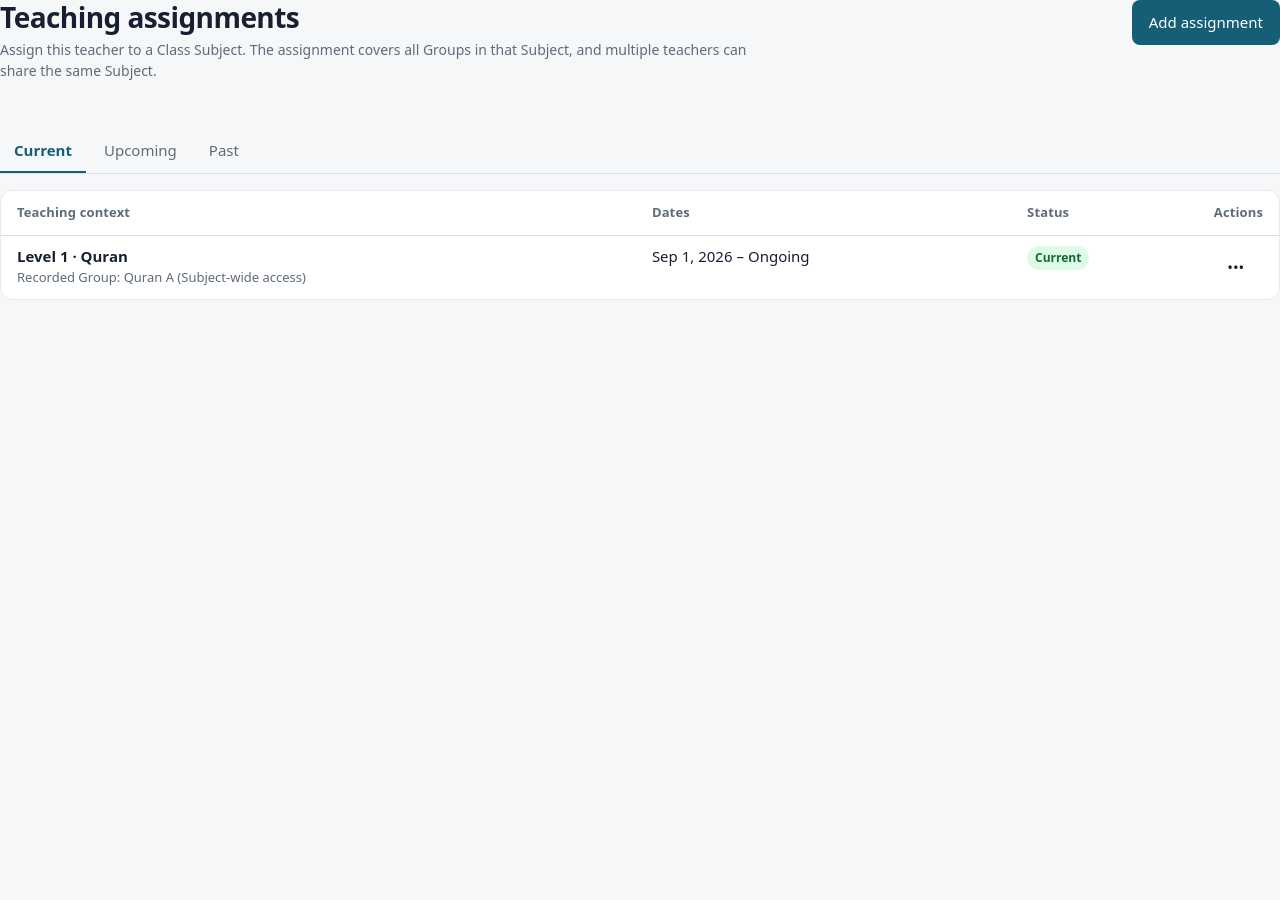
Scenario: teaching assignment workspace reference CRUD flow › keeps Delete visible and explains the blocker after protected history prevents deletion
The width and height of the screenshot is (1280, 900).
Click the button "•••" at [1236, 267], box [1214, 245, 1258, 289]
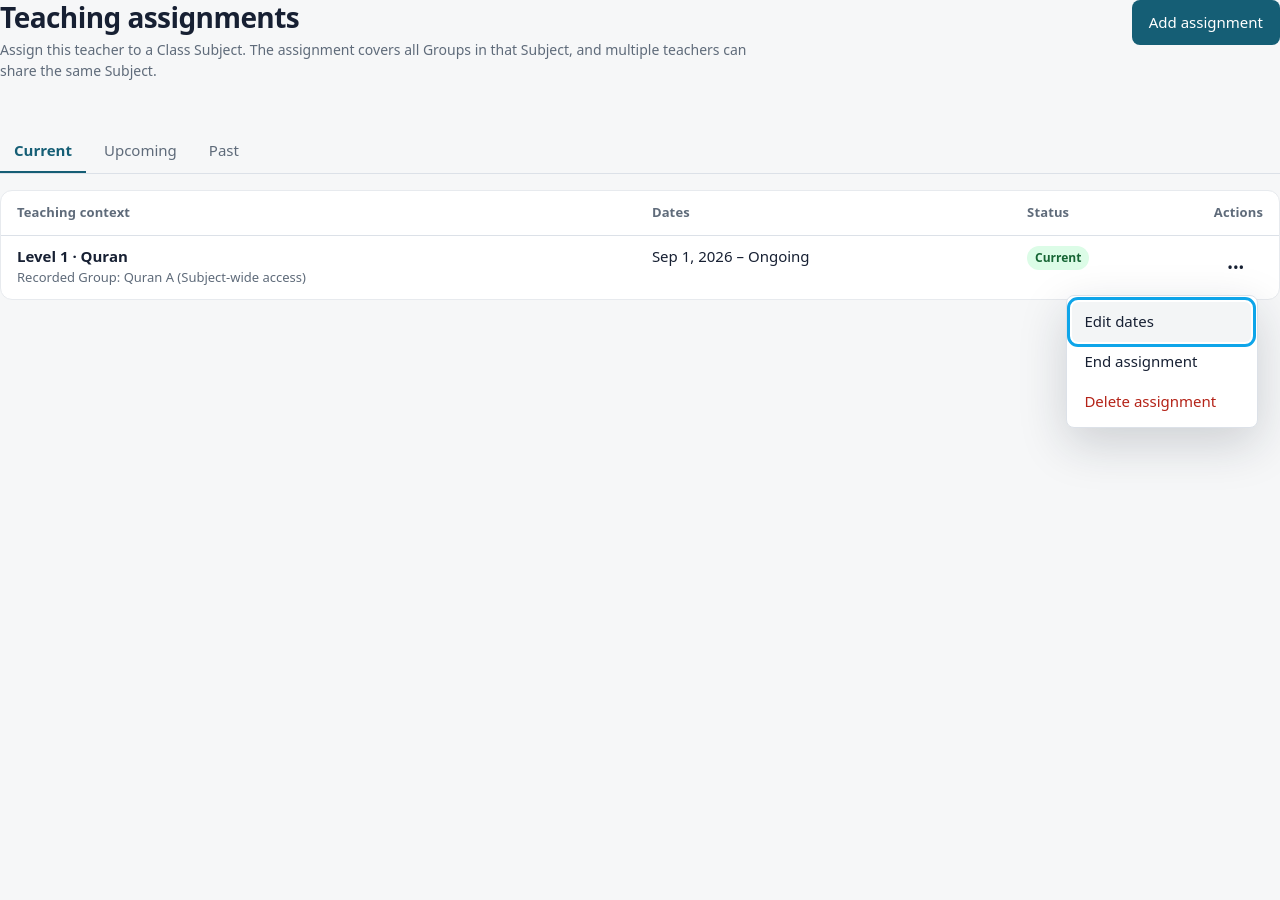
Click the menu item "Delete assignment" at [1162, 402], box [1072, 382, 1251, 422]
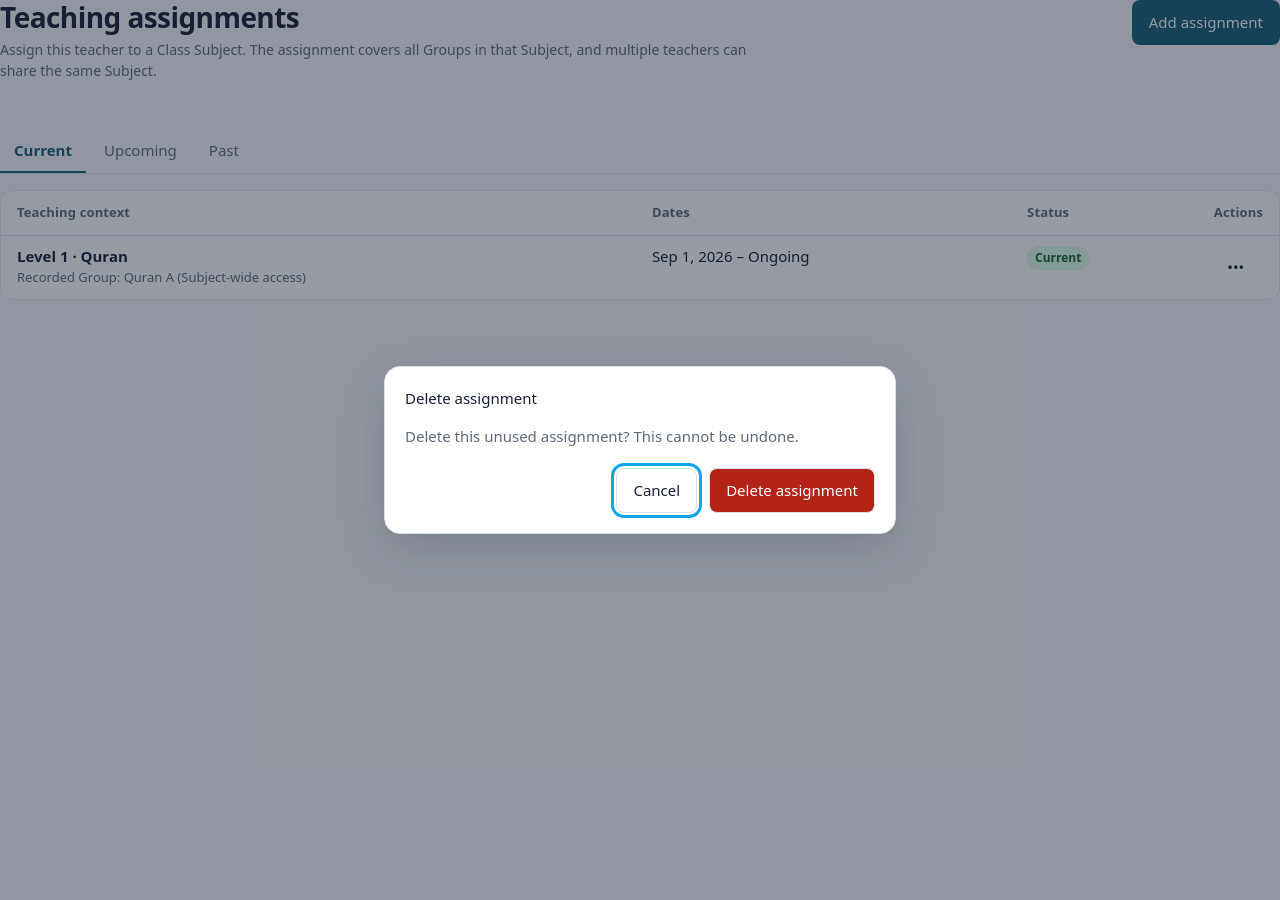
Click the button "Delete assignment" at [792, 491], box [709, 468, 875, 513]
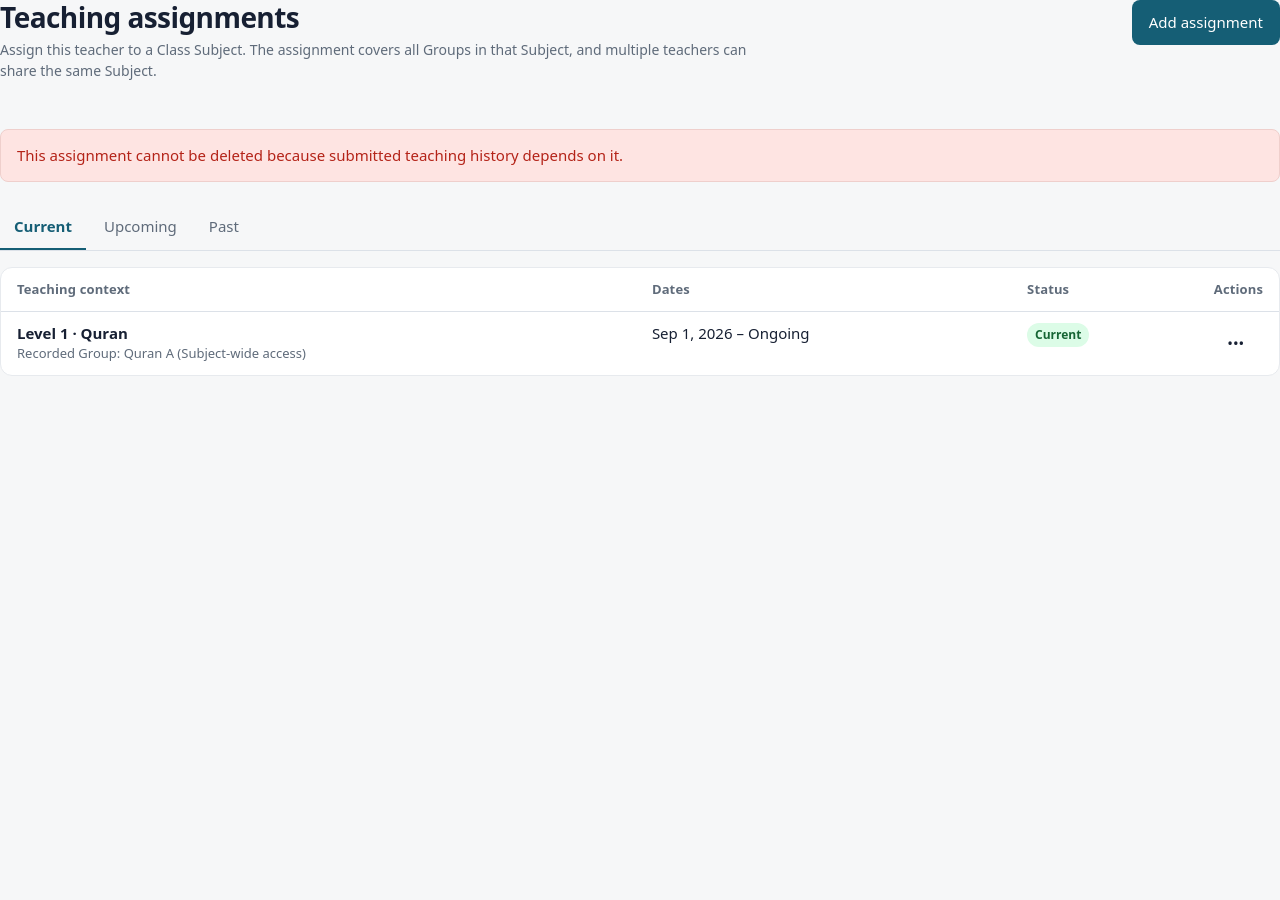
Expected: the text "This assignment cannot be deleted because submitted teaching history depends on it." is shown, [17, 145, 623, 165]
Click the button "•••" at [1236, 344], box [1214, 322, 1258, 366]
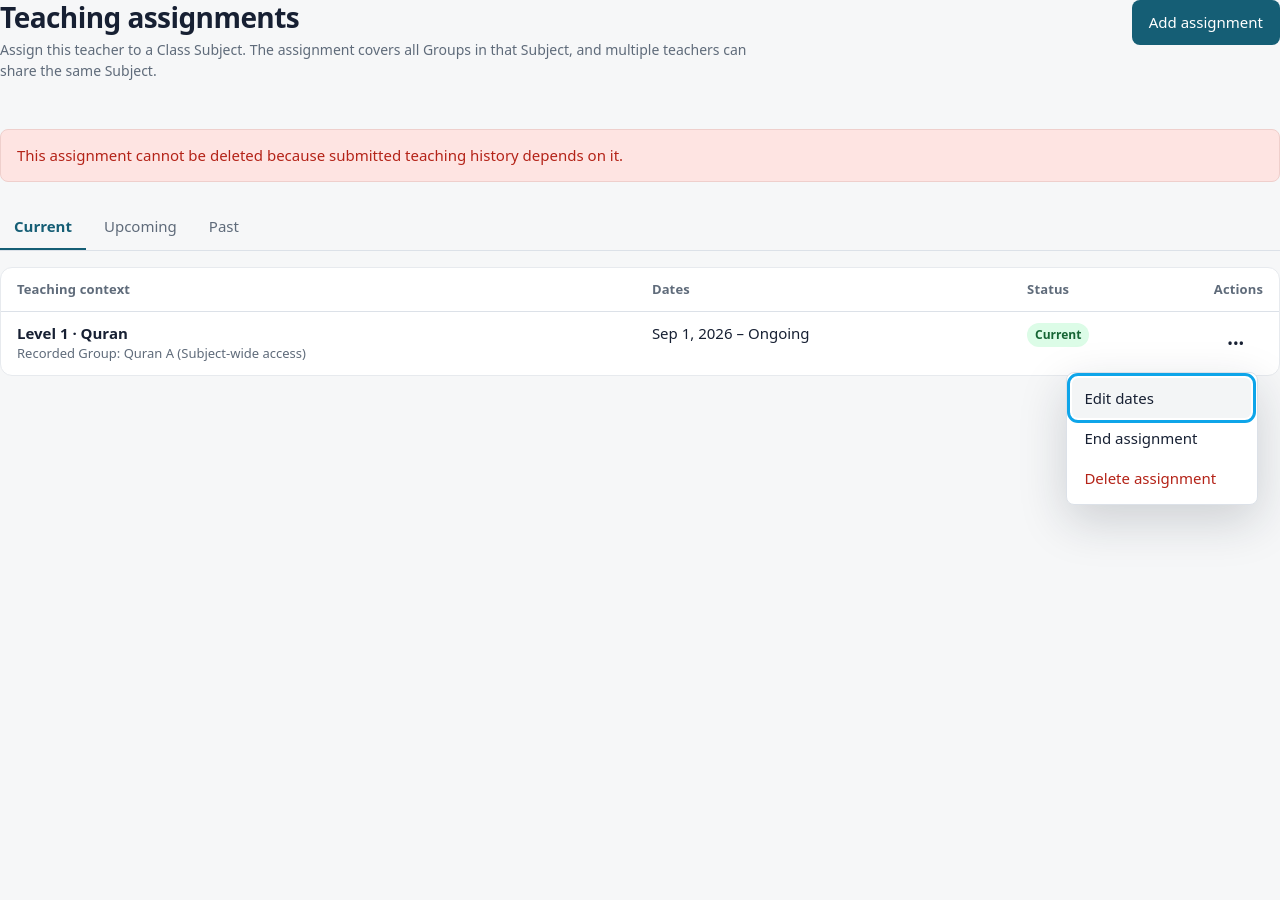
Expected: the menu item "Delete assignment" is shown, [1072, 458, 1251, 498]
